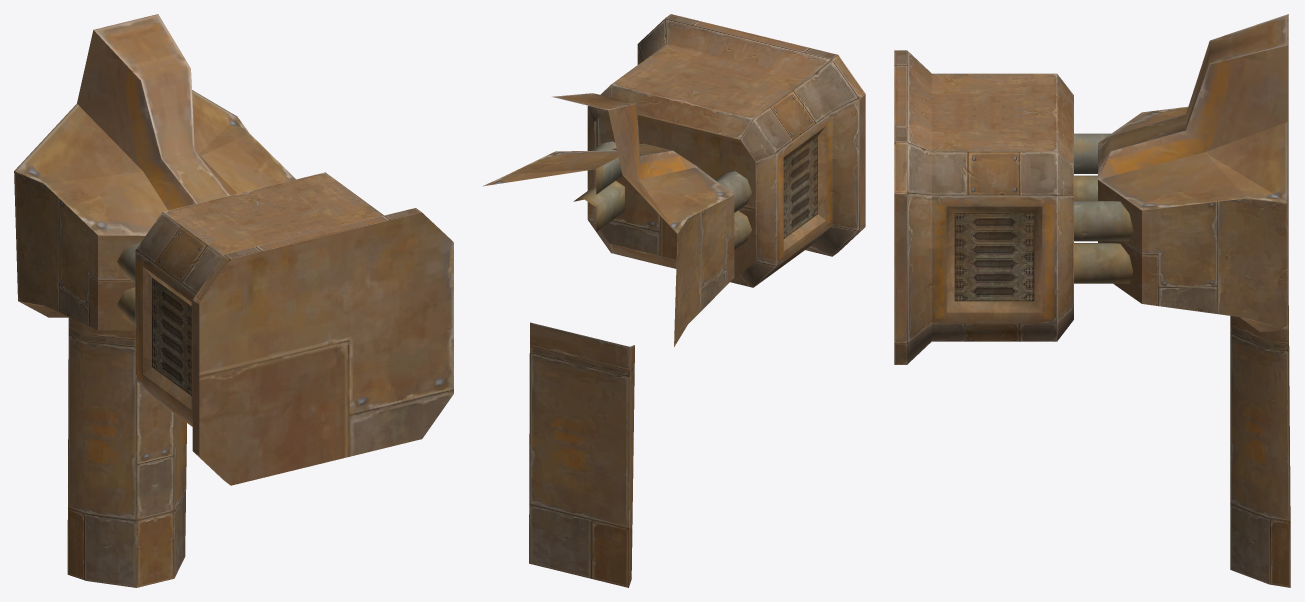
Rendered from hut_arch_industrial_tower_02_joiner.glb.
3 renders of one model, left to right at view 1: azimuth 30°, elevation 25°; view 2: azimuth 150°, elevation 25°; view 3: azimuth 270°, elevation 25°, orthographic. The views are drawn at different scales.
Visible parts, largest first — view 1: hut_arch_industrial_tower_02_joiner; view 2: hut_arch_industrial_tower_02_joiner; view 3: hut_arch_industrial_tower_02_joiner.
Boxes of the visible parts, box(x1,y1,x2,y2) form: hut_arch_industrial_tower_02_joiner: box(14, 14, 453, 587); hut_arch_industrial_tower_02_joiner: box(483, 14, 865, 587); hut_arch_industrial_tower_02_joiner: box(894, 14, 1290, 587).
Size of the model in its own units: 0.5013 by 1.02 by 0.687.
2 materials, 2 textured.
